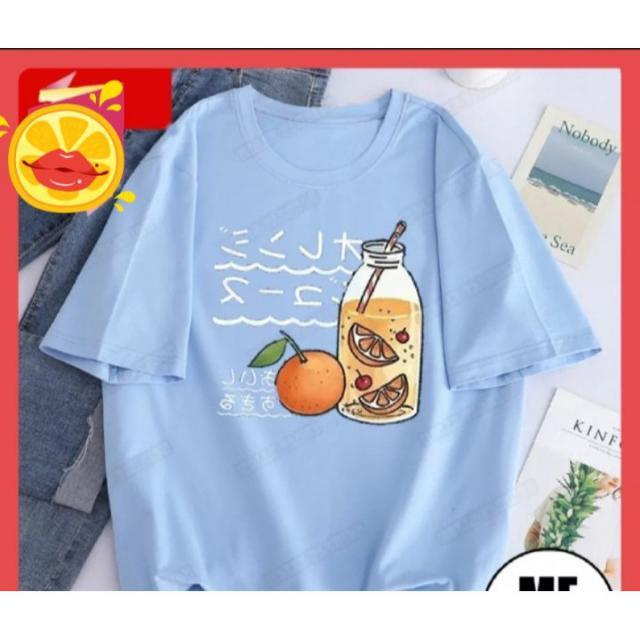Shirt: (41, 79, 599, 589)
